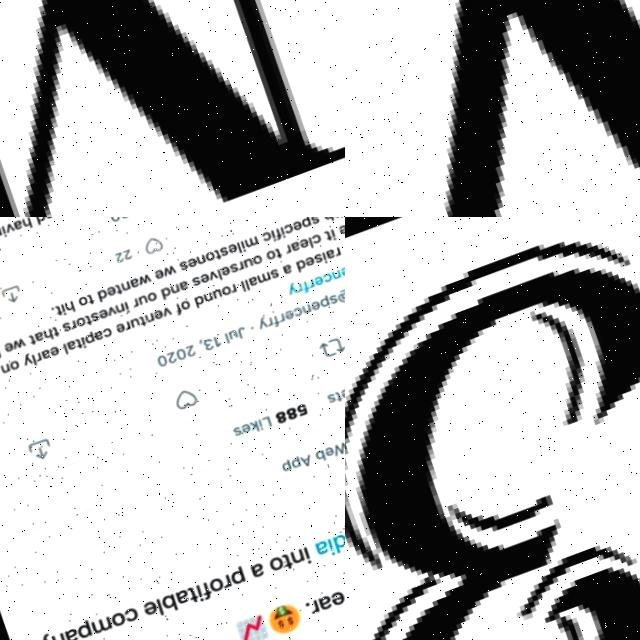0: (177, 348, 190, 361), (158, 354, 170, 367), (108, 217, 122, 223)
1: (215, 334, 224, 347)
2: (167, 349, 182, 364), (186, 343, 200, 357), (123, 249, 134, 261), (116, 251, 127, 263)
3: (345, 217, 640, 640), (204, 337, 217, 351)
5: (297, 402, 312, 417)
8: (286, 405, 301, 420), (276, 409, 291, 424)
M: (0, 0, 345, 217)
V: (345, 0, 640, 217)
